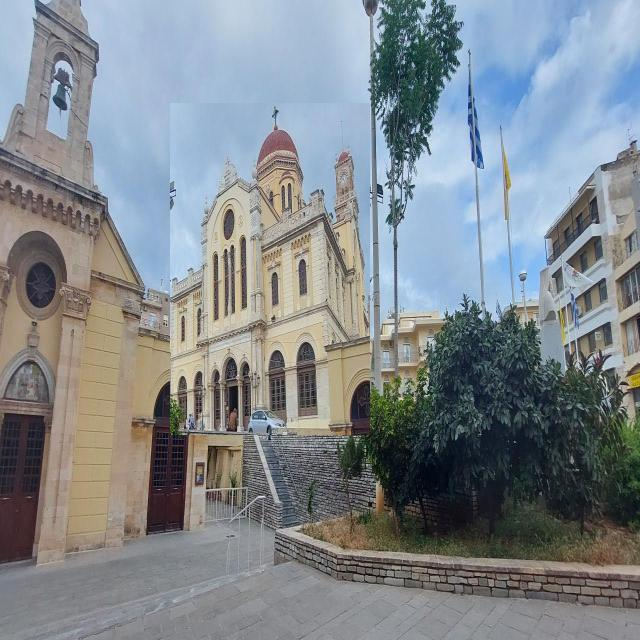Agios Minas: (171, 104, 371, 436)
